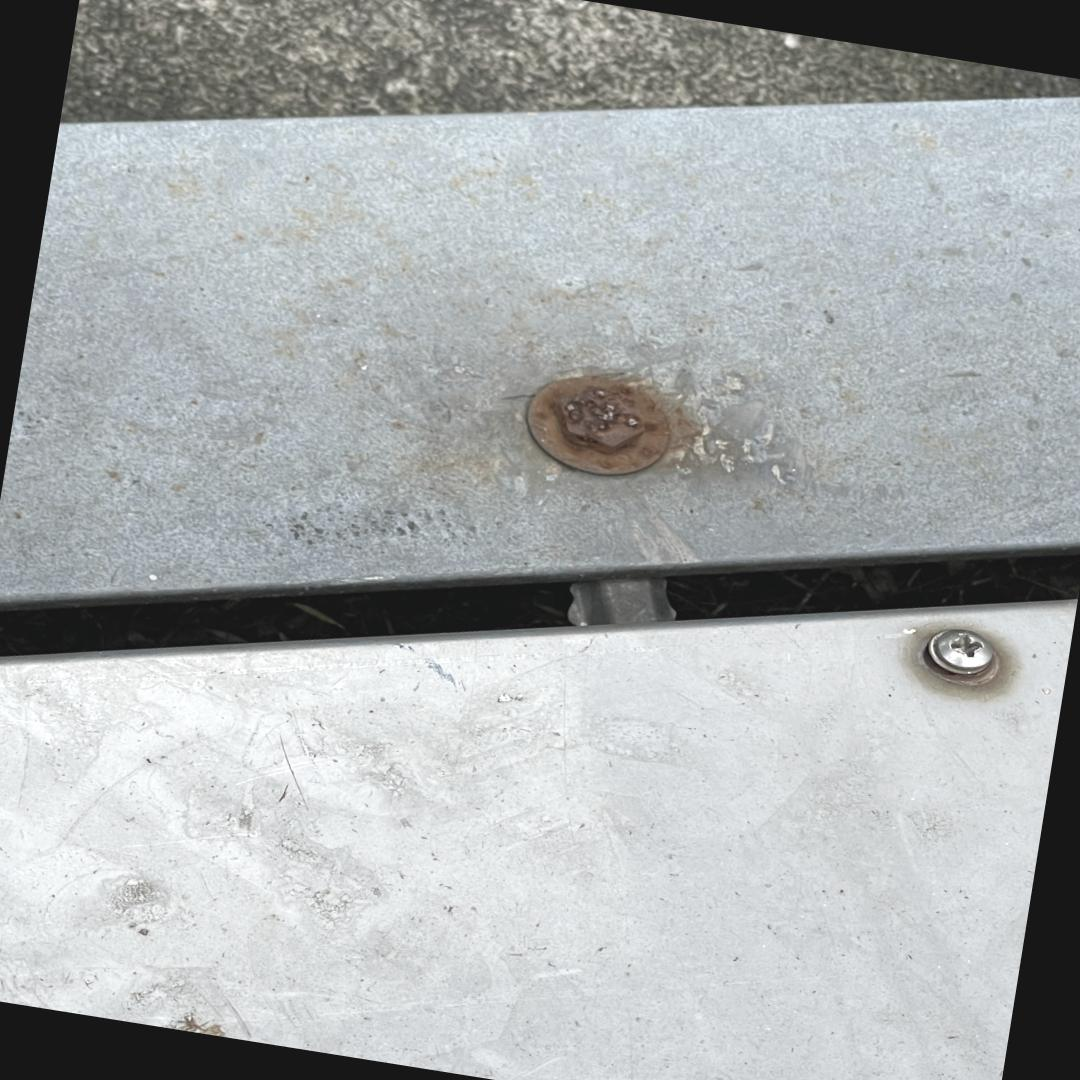Metal: (0, 93, 1080, 604), (0, 595, 1078, 1080)
Metal corroido: (522, 376, 699, 480)
